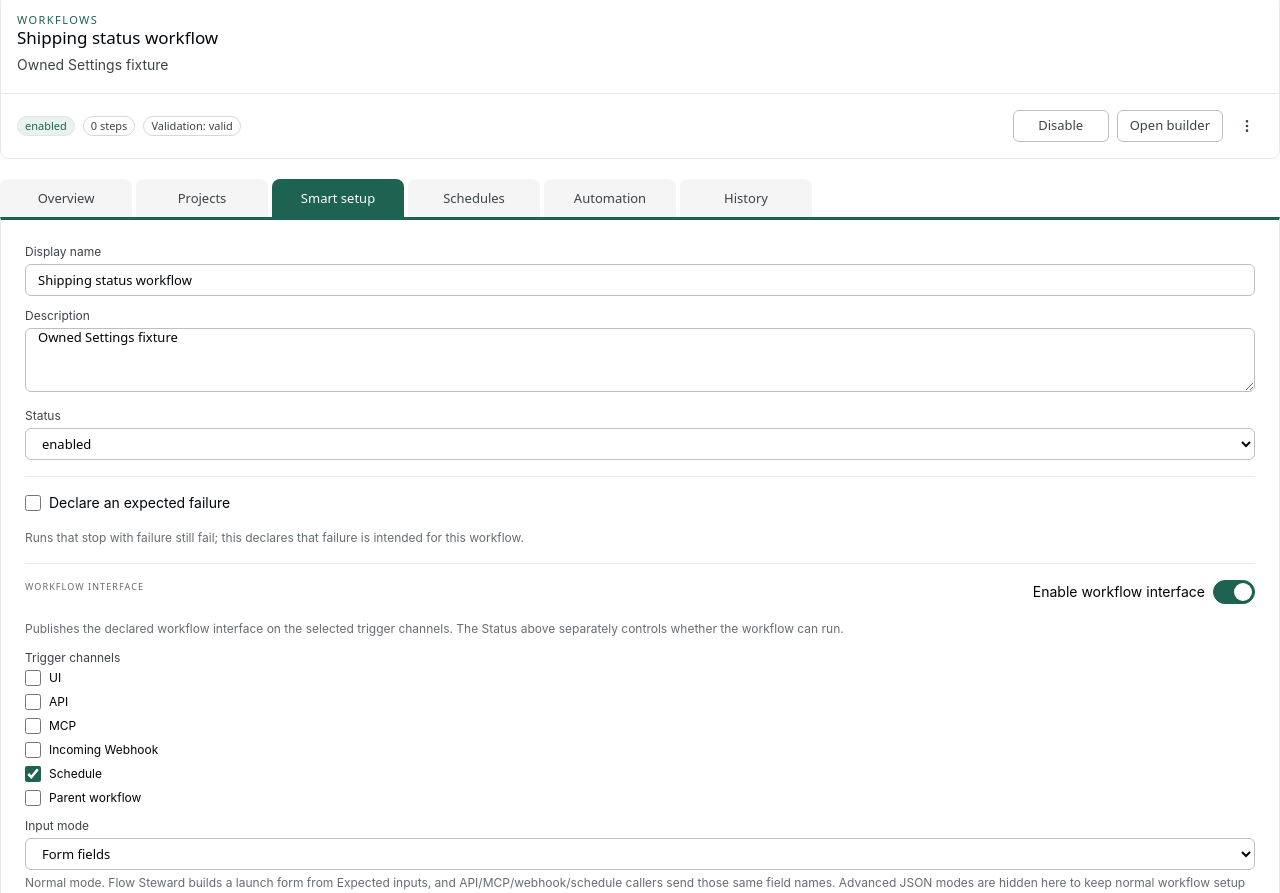
Test: shows platform_workflow_requires_clone without clearing the draft or claiming success
The width and height of the screenshot is (1280, 893).
Expected: the field labelled "Display name" is shown, [25,264,1255,296]
Type " local draft" into the text box labelled "Description" at coordinates (640, 360), box [25,328,1255,392]
(page scrolled)
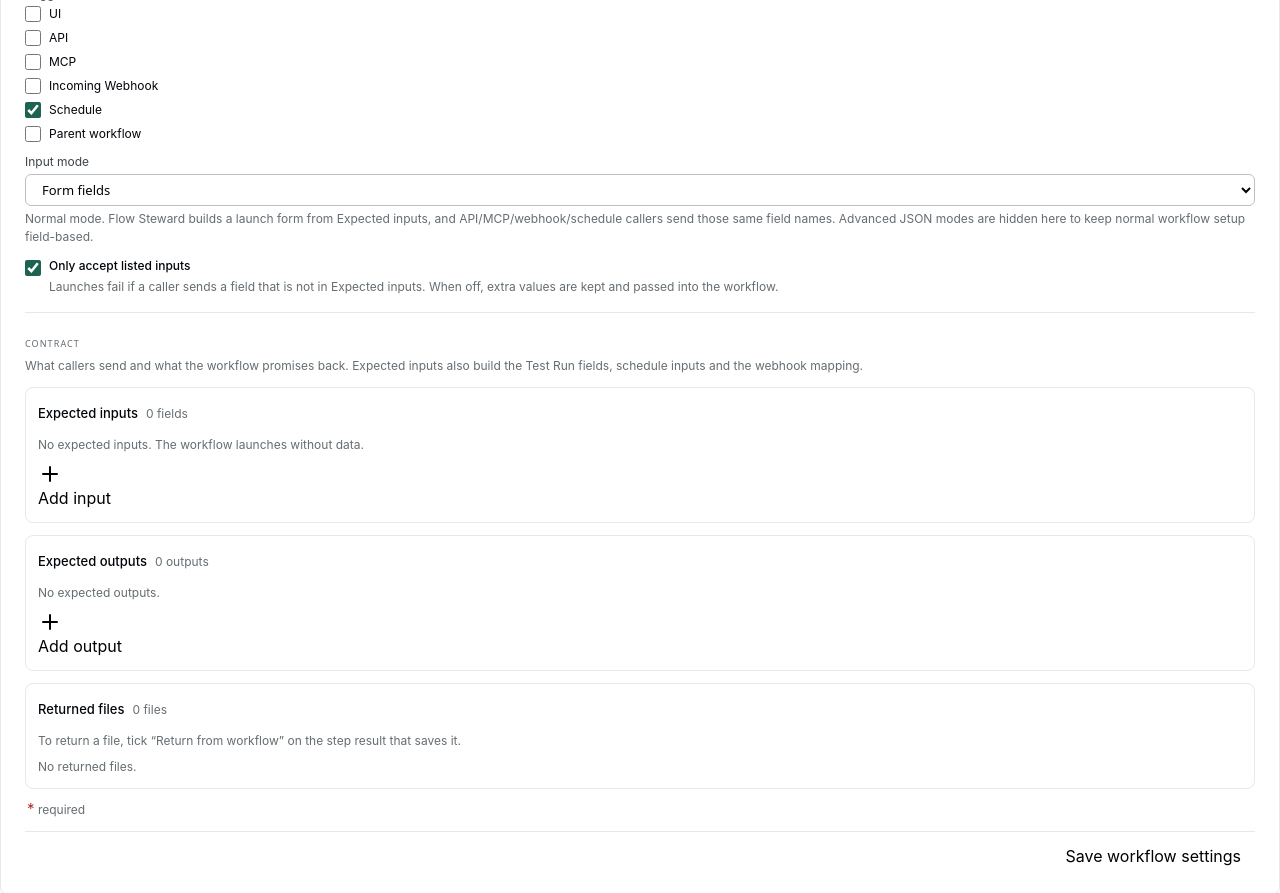
Click the button "Save workflow settings" at coordinates (1153, 856), box [1052,844,1255,868]
(page scrolled)
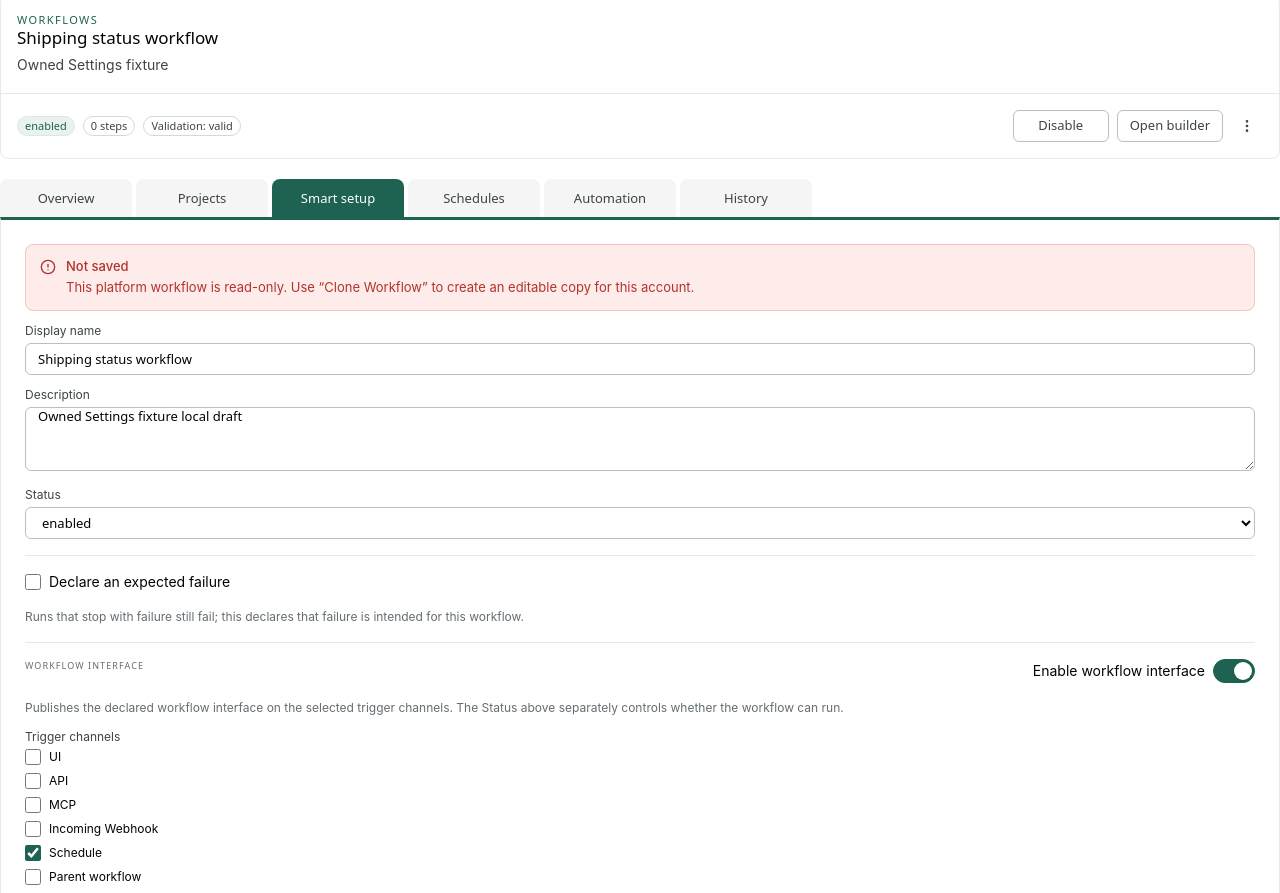
Result: the text box labelled "Description" holds "Owned Settings fixture local draft" at [25,407,1255,471]
Result: the text "This platform workflow is read-only" is shown at [66,279,694,295]
